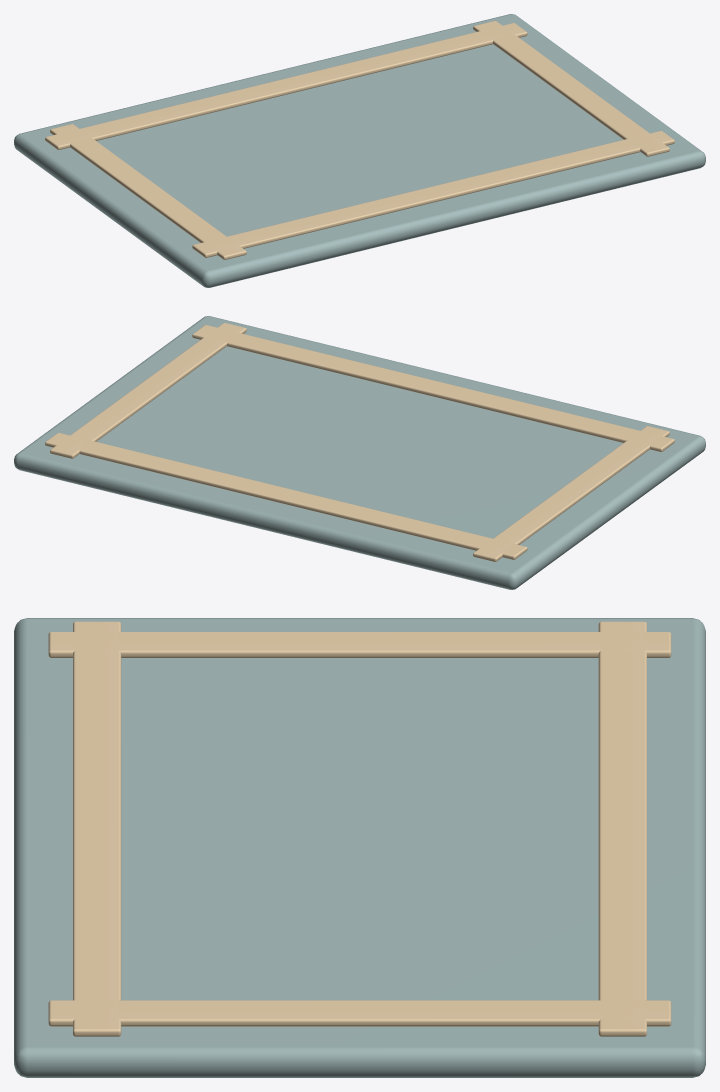
File: atelier-bath-mat.glb
3 views of the same model, one above another, from view 1: azimuth 30°, elevation 25°; view 2: azimuth 150°, elevation 25°; view 3: azimuth 270°, elevation 25° (orthographic). The views are drawn at different scales.
Parts seen in each view (by area): view 1: fabric.079, accent.029; view 2: fabric.079, accent.029; view 3: fabric.079, accent.029.
Boxes of the visible parts, <box> form: fabric.079: <box>14,14,705,287</box>; accent.029: <box>45,21,674,259</box>; fabric.079: <box>14,316,705,589</box>; accent.029: <box>45,323,674,561</box>; fabric.079: <box>14,618,705,1077</box>; accent.029: <box>48,621,671,1036</box>.
Size of the model in its own units: 0.75 by 0.03 by 0.5.
